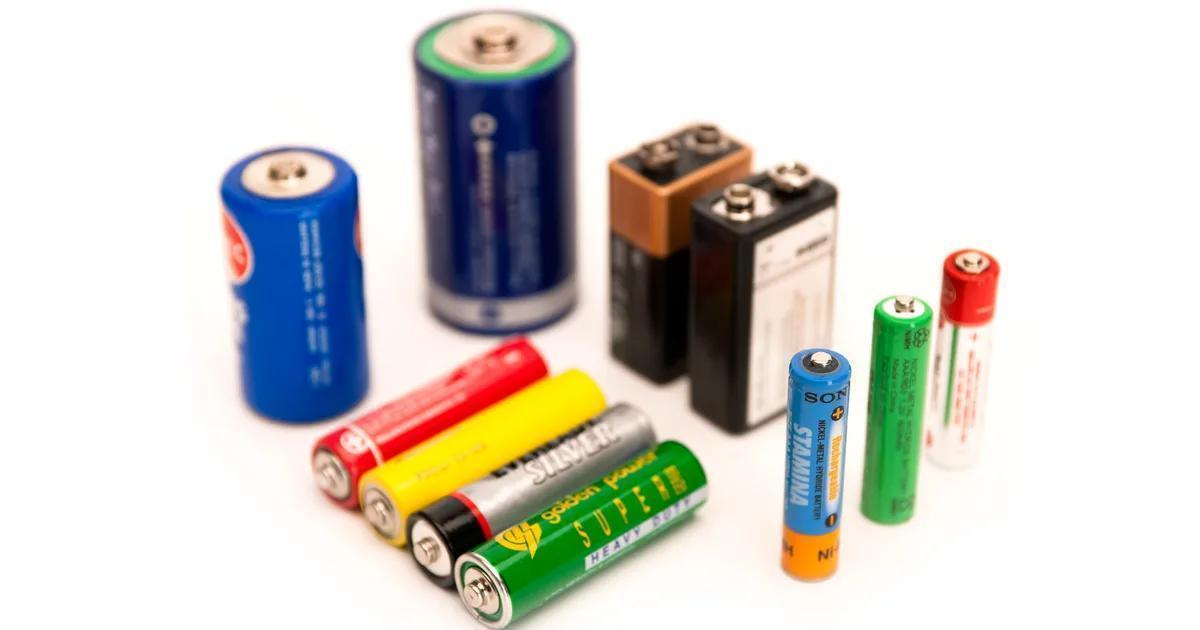AA: (453, 434, 715, 628), (404, 400, 658, 587), (357, 365, 613, 550), (308, 334, 550, 508)
AAA: (857, 291, 935, 528), (777, 344, 853, 586), (924, 245, 1003, 470)
